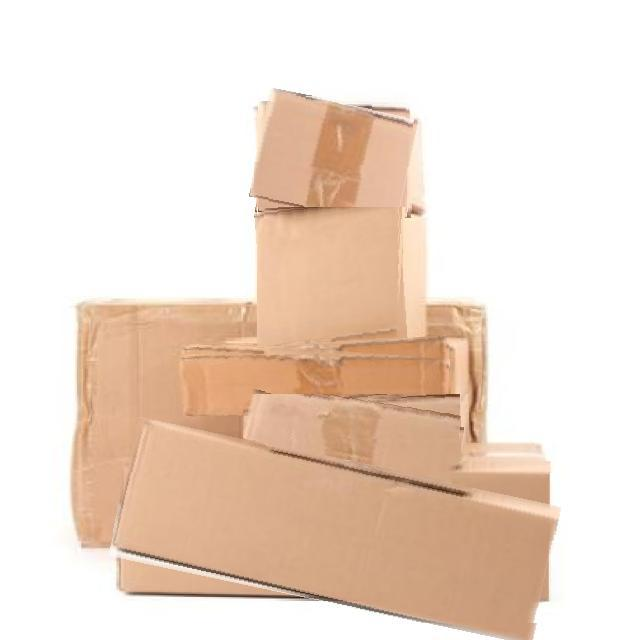BoxFace: (113, 439, 556, 623), (257, 207, 406, 348), (178, 339, 450, 416), (254, 94, 414, 218), (243, 394, 462, 480)
